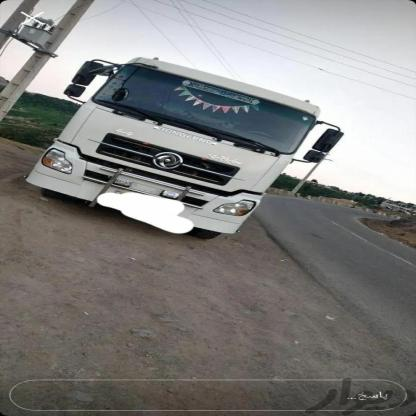Truck: (34, 49, 326, 245)
